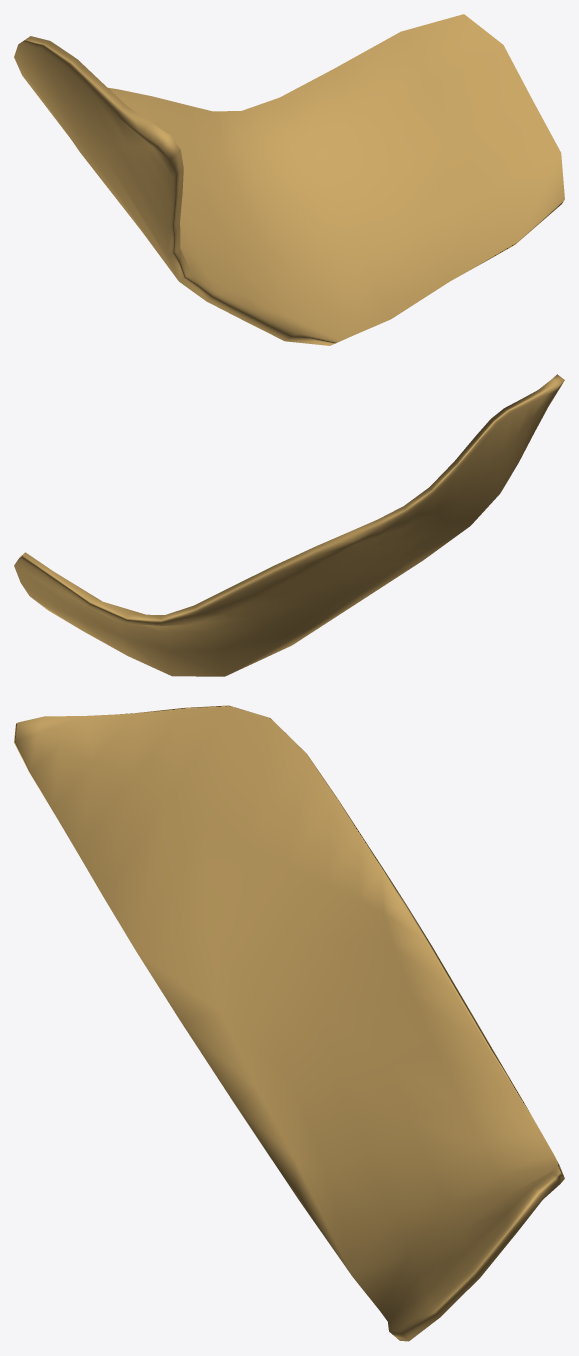
3 renders of one model, top to bottom at view 1: azimuth 30°, elevation 25°; view 2: azimuth 150°, elevation 25°; view 3: azimuth 270°, elevation 25°, orthographic. The views are drawn at different scales.
Parts seen in each view (by area): view 1: 左侧盂肱下韧带; view 2: 左侧盂肱下韧带; view 3: 左侧盂肱下韧带.
Boxes of the visible parts, x1,y1,x2,y2 form: 左侧盂肱下韧带: (14,14,564,345); 左侧盂肱下韧带: (14,374,564,676); 左侧盂肱下韧带: (14,705,564,1341).
Bounding box in the file's own units: 0.0352 × 0.0238 × 0.0284.
